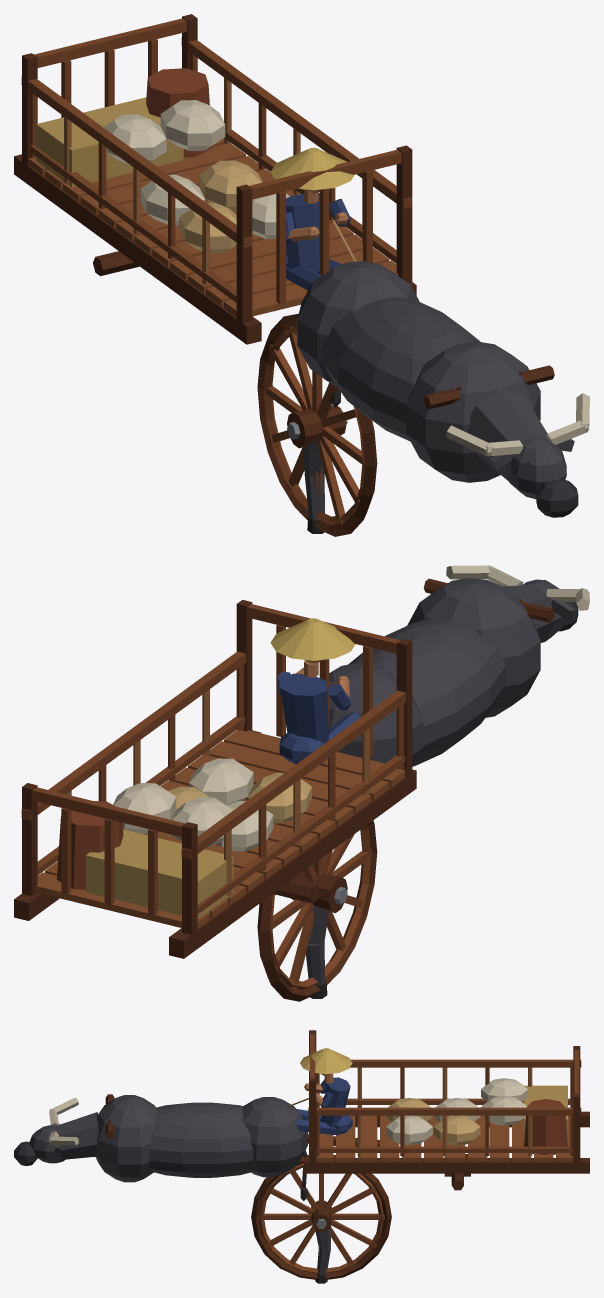
File: buffalo_cart.glb
3 renders of one model, top to bottom at view 1: azimuth 30°, elevation 25°; view 2: azimuth 150°, elevation 25°; view 3: azimuth 270°, elevation 25°, orthographic. The views are drawn at different scales.
Parts seen in each view (by area): view 1: body, wheel1, wheel0; view 2: body, wheel1, wheel0; view 3: body, wheel1, wheel0.
Part boxes in pixels (box(x1,y1,x2,y2)): body: box(14, 14, 589, 517); wheel1: box(257, 313, 377, 536); wheel0: box(303, 442, 324, 533); body: box(14, 565, 589, 958); wheel1: box(257, 820, 377, 1001); wheel0: box(306, 905, 328, 998); body: box(14, 1030, 589, 1200); wheel1: box(251, 1154, 391, 1279); wheel0: box(315, 1225, 330, 1283).
Bounding box in the file's own units: 1.75 × 2.91 × 6.54.
